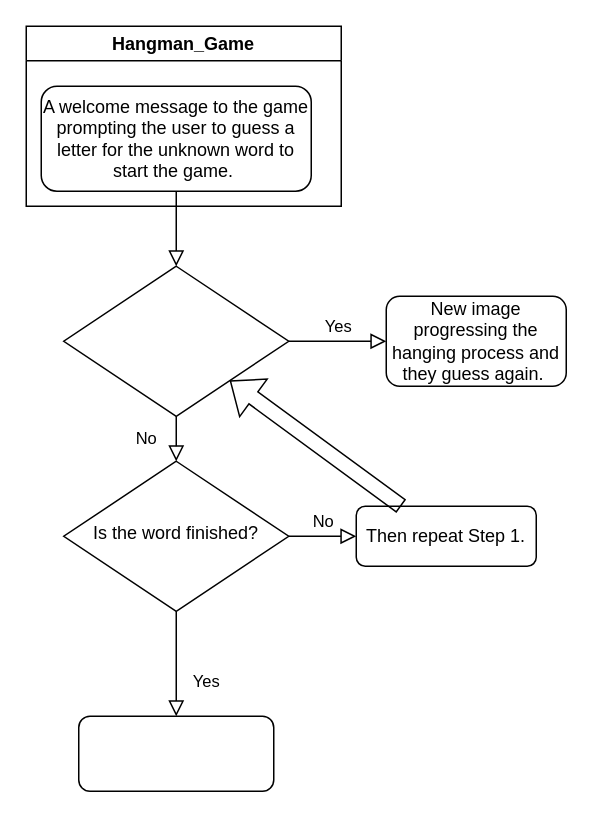
The diagram is 593 pixels wide and 818 high, and some of its shapes have lost their labels. Here are the shapes that lost their labels. From the top down, the box of each, then its label:
(62, 265, 289, 416): Step 1. guess a letter, did they guess wrong?
(77, 715, 274, 791): They guessed the correct letters finishing the word.
